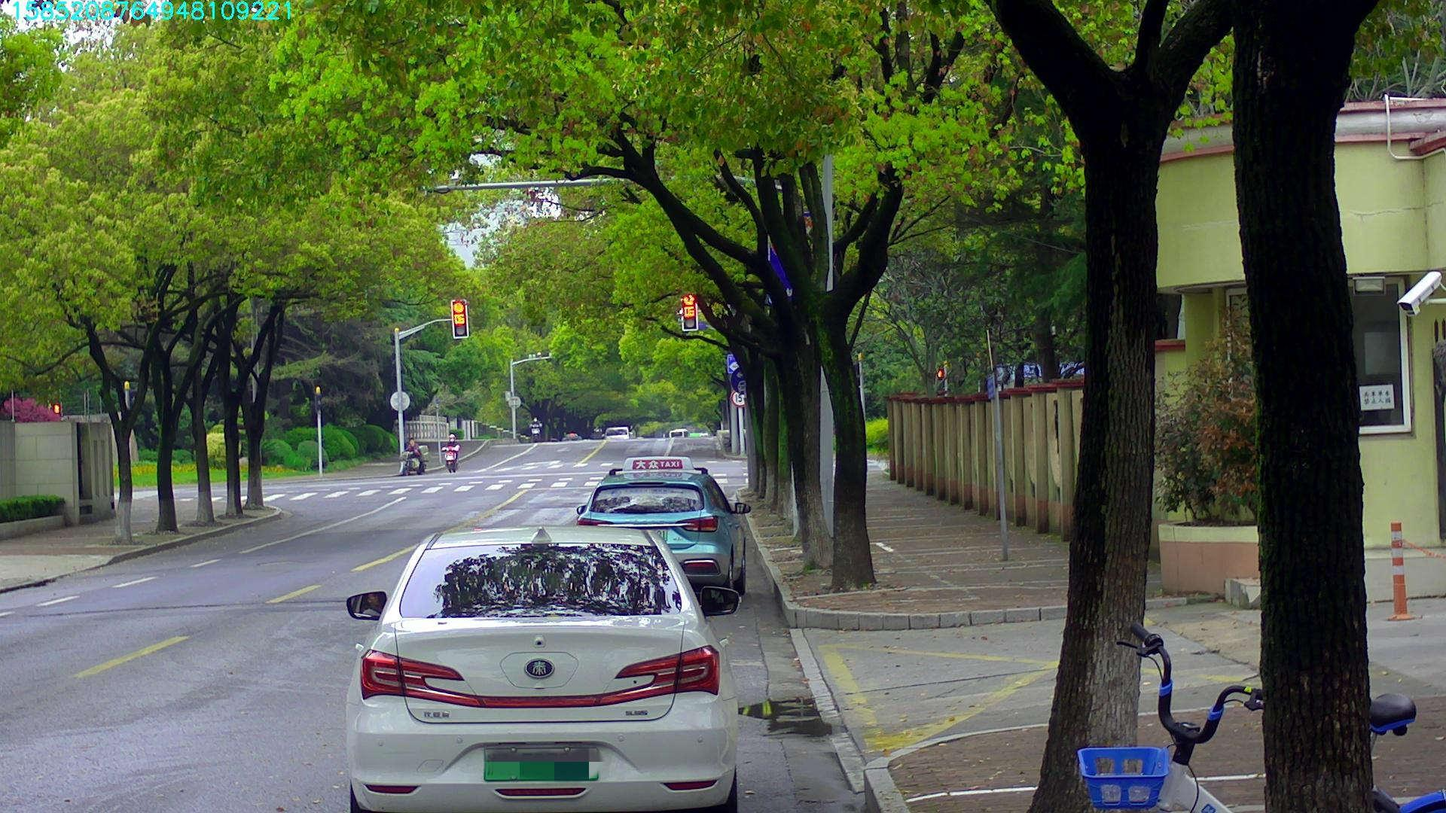red: (452, 299, 468, 336), (682, 294, 697, 329)
